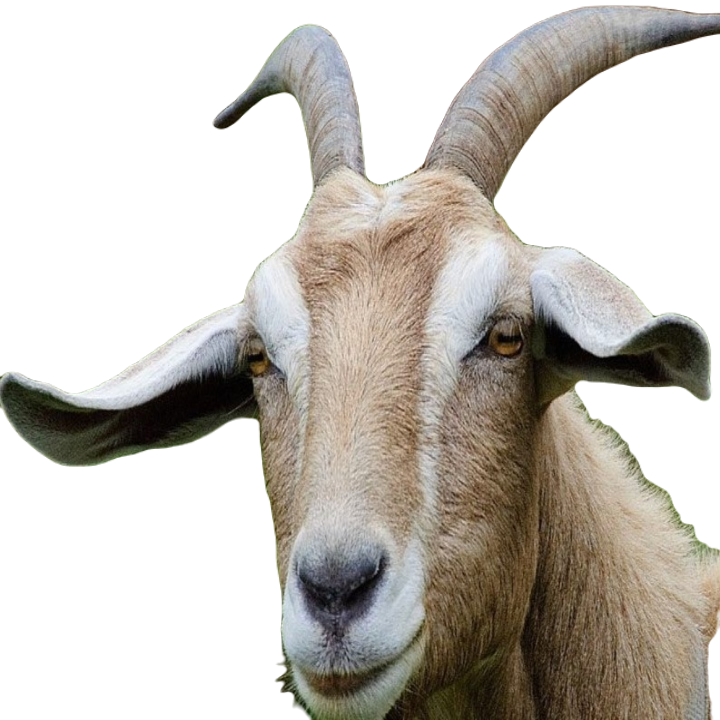Goat: (0, 0, 717, 720)
